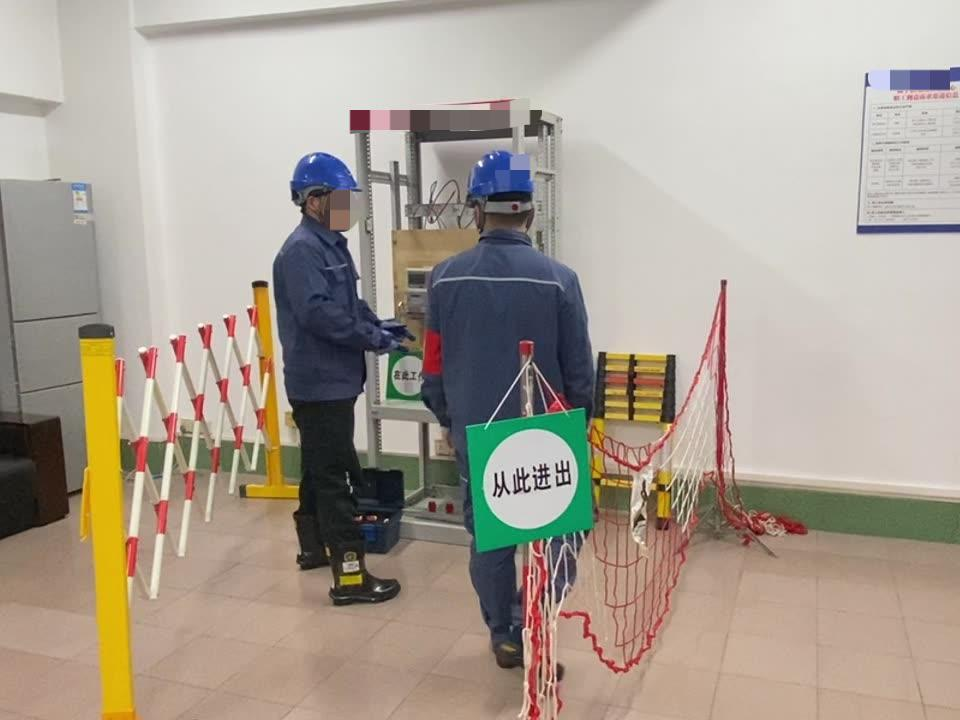halt: (468, 151, 542, 237), (291, 153, 365, 229)
inear: (303, 189, 333, 222)
